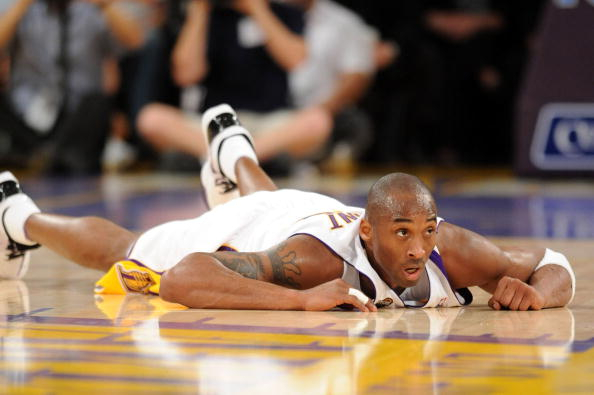fall: (24, 106, 551, 310)
